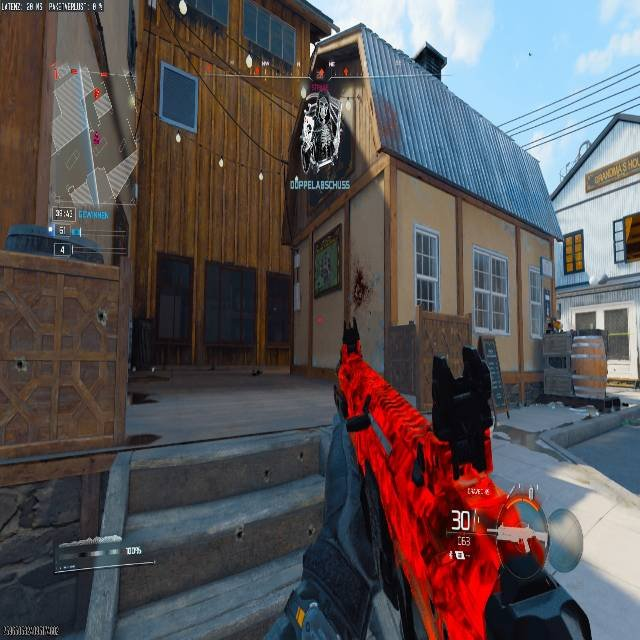head: (282, 0, 639, 401)
player: (544, 316, 563, 333)
